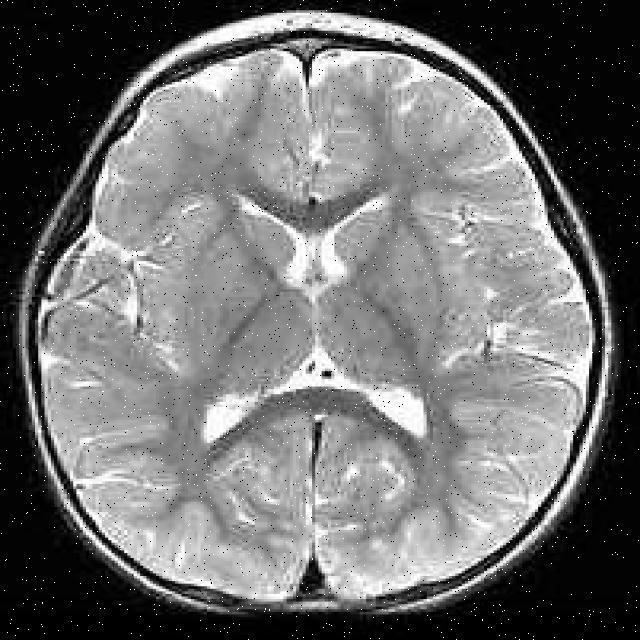No_Tumor: (20, 11, 613, 613)
